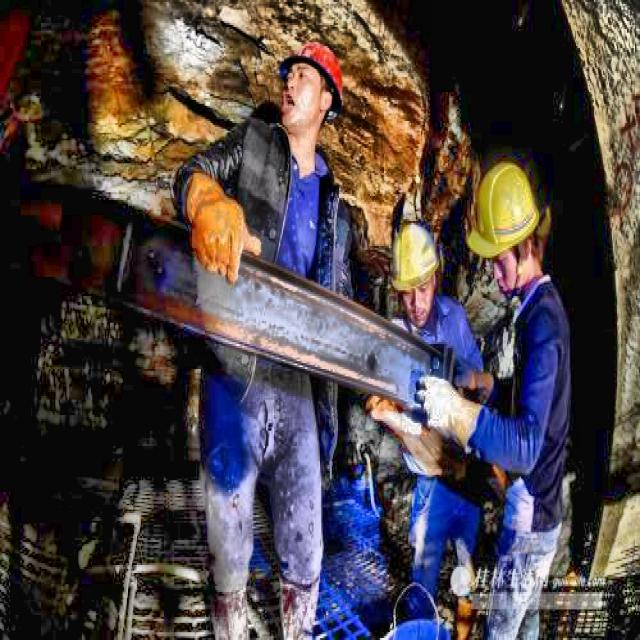helmet: (468, 152, 544, 284), (274, 27, 351, 150), (389, 215, 440, 325)
